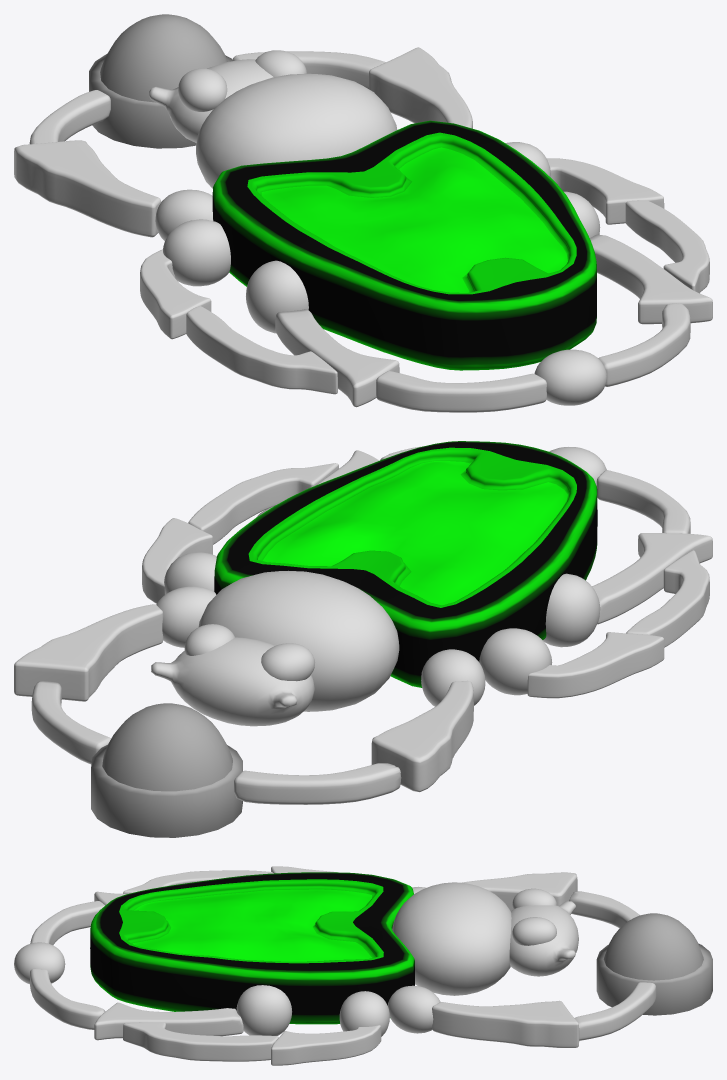
The model's file is ScarabBeetle_high.fbx.
3 renders of one model, top to bottom at view 1: azimuth 30°, elevation 25°; view 2: azimuth 150°, elevation 25°; view 3: azimuth 270°, elevation 25°, orthographic. The views are drawn at different scales.
Visible parts, largest first — view 1: beetlebody_high, lowerhead_high, r_toparm1_high, jewel_high, r_middlearm2_high, r_bottomarm2_high, l_toparm1_high, l_bottom1_high, r_bottom1_high, l_middlearm2_high, goldenring_high, r_middlejoint_high (+12 smaller); view 2: beetlebody_high, lowerhead_high, jewel_high, upperhead_high, l_toparm1_high, goldenring_high, r_toparm1_high, r_middlearm1_high, r_toparm2_high, r_bottom1_high, l_middlearm2_high, r_middlearm2_high (+11 smaller); view 3: beetlebody_high, lowerhead_high, l_toparm1_high, jewel_high, l_middlearm2_high, goldenring_high, upperhead_high, l_bottom1_high, l_middlearm1_high, l_bottomjoint_high, l_toparm2_high, r_toparm1_high (+9 smaller).
Boxes of the visible parts, bbox=[...] form: beetlebody_high: bbox=[212, 120, 596, 370]; lowerhead_high: bbox=[196, 73, 397, 188]; r_toparm1_high: bbox=[14, 140, 161, 237]; jewel_high: bbox=[100, 14, 227, 102]; r_middlearm2_high: bbox=[186, 306, 337, 394]; r_bottomarm2_high: bbox=[376, 371, 546, 412]; l_toparm1_high: bbox=[369, 47, 472, 128]; l_bottom1_high: bbox=[589, 234, 712, 324]; r_bottom1_high: bbox=[275, 309, 399, 407]; l_middlearm2_high: bbox=[625, 200, 709, 293]; goldenring_high: bbox=[89, 53, 233, 148]; r_middlejoint_high: bbox=[163, 219, 230, 286]; beetlebody_high: bbox=[214, 441, 597, 687]; lowerhead_high: bbox=[198, 570, 399, 711]; jewel_high: bbox=[102, 703, 232, 791]; upperhead_high: bbox=[151, 637, 314, 726]; l_toparm1_high: bbox=[14, 604, 163, 701]; goldenring_high: bbox=[91, 744, 242, 837]; r_toparm1_high: bbox=[371, 681, 473, 792]; r_middlearm1_high: bbox=[527, 632, 664, 698]; r_toparm2_high: bbox=[234, 763, 401, 804]; r_bottom1_high: bbox=[592, 533, 712, 624]; l_middlearm2_high: bbox=[188, 463, 338, 544]; r_middlearm2_high: bbox=[626, 550, 709, 647]; beetlebody_high: bbox=[90, 872, 414, 1024]; lowerhead_high: bbox=[392, 882, 511, 995]; l_toparm1_high: bbox=[432, 1000, 579, 1047]; jewel_high: bbox=[603, 913, 703, 980]; l_middlearm2_high: bbox=[123, 1022, 278, 1061]; goldenring_high: bbox=[596, 943, 712, 1015]; upperhead_high: bbox=[509, 901, 578, 976]; l_bottom1_high: bbox=[94, 1002, 243, 1040]; l_middlearm1_high: bbox=[271, 1025, 381, 1065]; l_bottomjoint_high: bbox=[236, 985, 292, 1035]; l_toparm2_high: bbox=[574, 982, 656, 1040]; r_toparm1_high: bbox=[461, 872, 577, 911].
Size of the model in its own units: 74.42 by 18.25 by 120.
